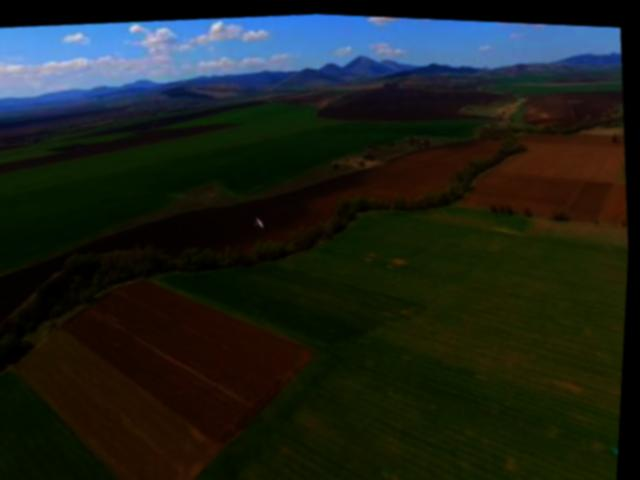uav: (251, 208, 272, 229)
